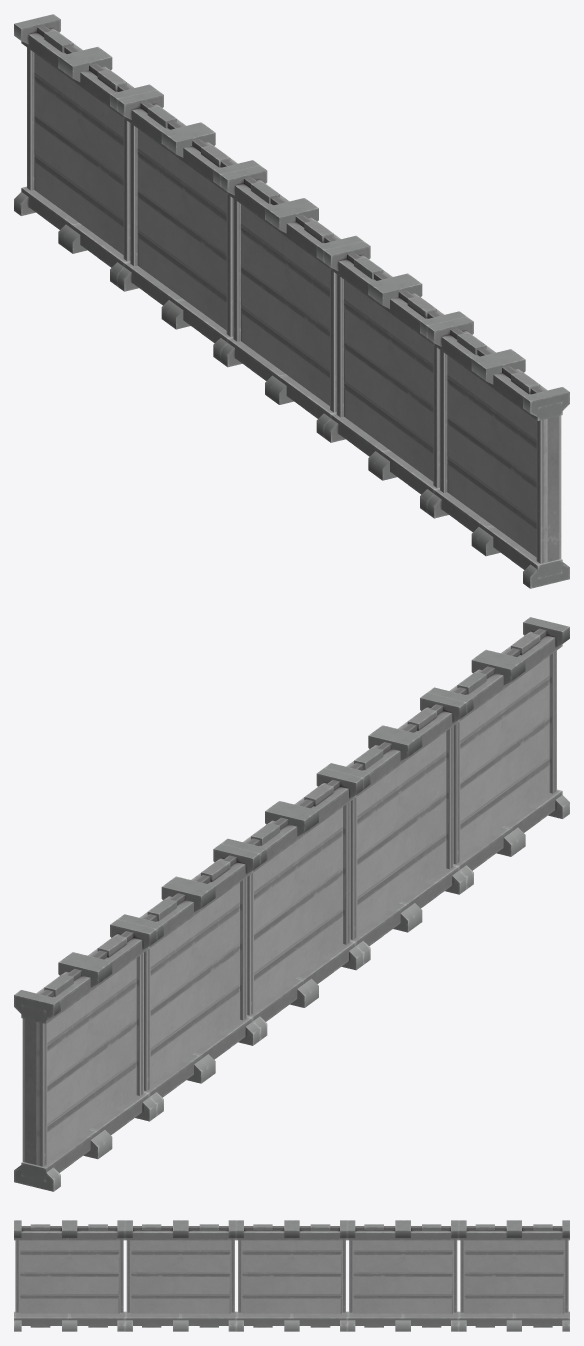
File: Pfb_JALB_WallPart2_Line__35.fbx
3 views of the same model, one above another, from view 1: azimuth 30°, elevation 25°; view 2: azimuth 150°, elevation 25°; view 3: azimuth 270°, elevation 25° (orthographic). The views are drawn at different scales.
Visible parts, largest first — view 1: MAT_Roof; view 2: MAT_Roof; view 3: MAT_Roof.
Boxes of the visible parts, box(x1,y1,x2,y2) form: MAT_Roof: box(14, 14, 569, 588); MAT_Roof: box(14, 617, 569, 1191); MAT_Roof: box(14, 1220, 569, 1331).
Size of the model in its own units: 0.8872 by 4 by 20.
1 material, 1 textured.
